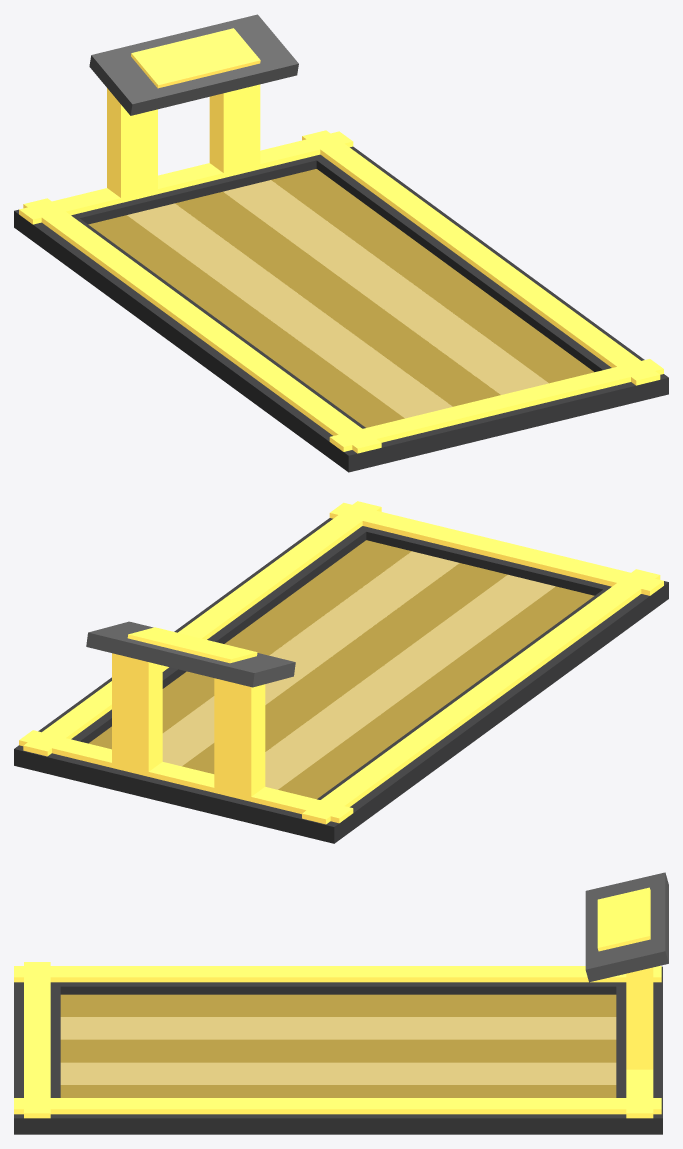
File: Treadmill_Upgrade4.glb
3 views of the same model, one above another, from view 1: azimuth 30°, elevation 25°; view 2: azimuth 150°, elevation 25°; view 3: azimuth 270°, elevation 25° (orthographic). The views are drawn at different scales.
Parts seen in each view (by area): view 1: Cube_copy_copy_copy_2, Cube_copy_copy_2, Cube_copy_copy_3, Cube_copy_copy_4, Cube_copy_1, Cube_copy, Cube_copy_copy_1, Cube_copy_copy_copy_1, Cube_copy_copy_copy_copy_copy_copy_copy_1, Cube_copy_copy, Cube_copy_copy_copy_copy_1, Cube_copy_copy_copy (+6 smaller); view 2: Cube_copy_copy_2, Cube_copy_copy_3, Cube_copy_1, Cube_copy_copy_copy_2, Cube_copy_copy_1, Cube_copy_copy_4, Cube_copy, Cube_copy_copy_copy_1, Cube_copy_copy_copy_copy, Cube_copy_copy_copy_copy_1, Cube_copy_copy_copy_copy_copy_copy, Cube_copy_copy_copy_copy_copy_copy_copy (+6 smaller); view 3: Cube_copy_copy_3, Cube_copy_copy_2, Cube_copy_1, Cube_copy_copy_copy_2, Cube_copy_copy, Cube_copy_copy_copy_1, Cube_copy_copy_1, Cube_copy, Cube_copy_copy_4, Cube_copy_copy_copy_copy_copy_copy_copy_1, Cube, Cube_copy_copy_copy_copy_1 (+5 smaller).
Boxes of the visible parts, x1=… form: Cube_copy_copy_copy_2: x1=223, y1=180, x2=548, y2=394; Cube_copy_copy_2: x1=127, y1=203, x2=452, y2=418; Cube_copy_copy_3: x1=175, y1=191, x2=500, y2=406; Cube_copy_copy_4: x1=271, y1=169, x2=594, y2=383; Cube_copy_1: x1=88, y1=215, x2=404, y2=427; Cube_copy: x1=14, y1=211, x2=390, y2=471; Cube_copy_copy_1: x1=23, y1=198, x2=381, y2=453; Cube_copy_copy_copy_1: x1=302, y1=130, x2=660, y2=385; Cube_copy_copy_copy_copy_copy_copy_copy_1: x1=89, y1=14, x2=298, y2=115; Cube_copy_copy: x1=312, y1=146, x2=668, y2=403; Cube_copy_copy_copy_copy_1: x1=329, y1=359, x2=663, y2=451; Cube_copy_copy_copy: x1=325, y1=376, x2=668, y2=472; Cube_copy_copy_2: x1=265, y1=574, x2=555, y2=789; Cube_copy_copy_3: x1=182, y1=563, x2=507, y2=773; Cube_copy_1: x1=278, y1=586, x2=594, y2=799; Cube_copy_copy_copy_2: x1=162, y1=551, x2=459, y2=766; Cube_copy_copy_1: x1=302, y1=569, x2=660, y2=824; Cube_copy_copy_4: x1=88, y1=540, x2=411, y2=749; Cube_copy: x1=293, y1=581, x2=668, y2=842; Cube_copy_copy_copy_1: x1=23, y1=501, x2=381, y2=756; Cube_copy_copy_copy_copy: x1=14, y1=745, x2=357, y2=843; Cube_copy_copy_copy_copy_1: x1=329, y1=502, x2=663, y2=595; Cube_copy_copy_copy_copy_copy_copy: x1=214, y1=678, x2=265, y2=796; Cube_copy_copy_copy_copy_copy_copy_copy: x1=112, y1=653, x2=162, y2=771; Cube_copy_copy_3: x1=60, y1=1039, x2=616, y2=1062; Cube_copy_copy_2: x1=60, y1=1017, x2=616, y2=1039; Cube_copy_1: x1=60, y1=994, x2=616, y2=1016; Cube_copy_copy_copy_2: x1=60, y1=1062, x2=616, y2=1084; Cube_copy_copy: x1=14, y1=1114, x2=661, y2=1134; Cube_copy_copy_copy_1: x1=14, y1=1098, x2=661, y2=1114; Cube_copy_copy_1: x1=14, y1=966, x2=661, y2=982; Cube_copy: x1=14, y1=982, x2=661, y2=994; Cube_copy_copy_4: x1=60, y1=1085, x2=616, y2=1097; Cube_copy_copy_copy_copy_copy_copy_copy_1: x1=585, y1=872, x2=668, y2=982; Cube: x1=14, y1=1128, x2=661, y2=1134; Cube_copy_copy_copy_copy_1: x1=24, y1=962, x2=50, y2=1118.
Size of the model in its own units: 4.38 by 1.99 by 8.
